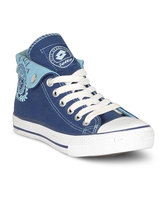shoes: (11, 41, 160, 161)
